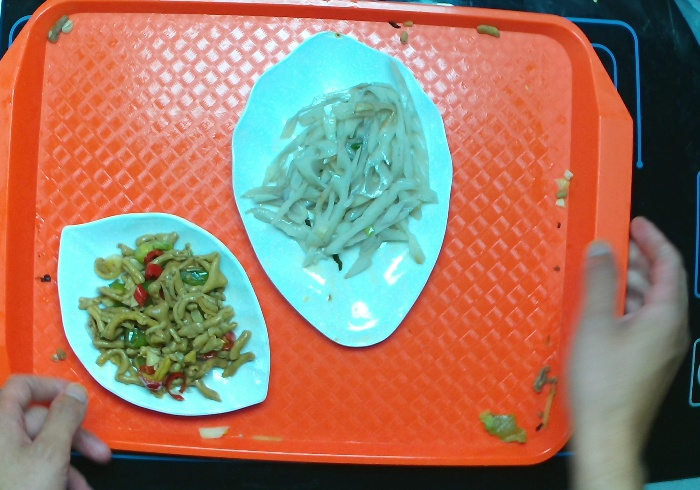RJxy-Bai_Ye_Pan: (228, 27, 456, 351)
RJxy-Da_Du_Pan: (52, 208, 273, 421)
